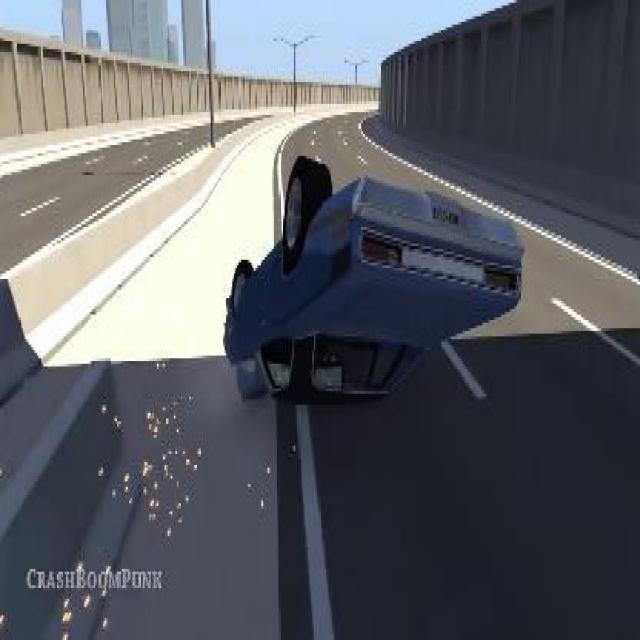accident: (219, 149, 526, 414)
